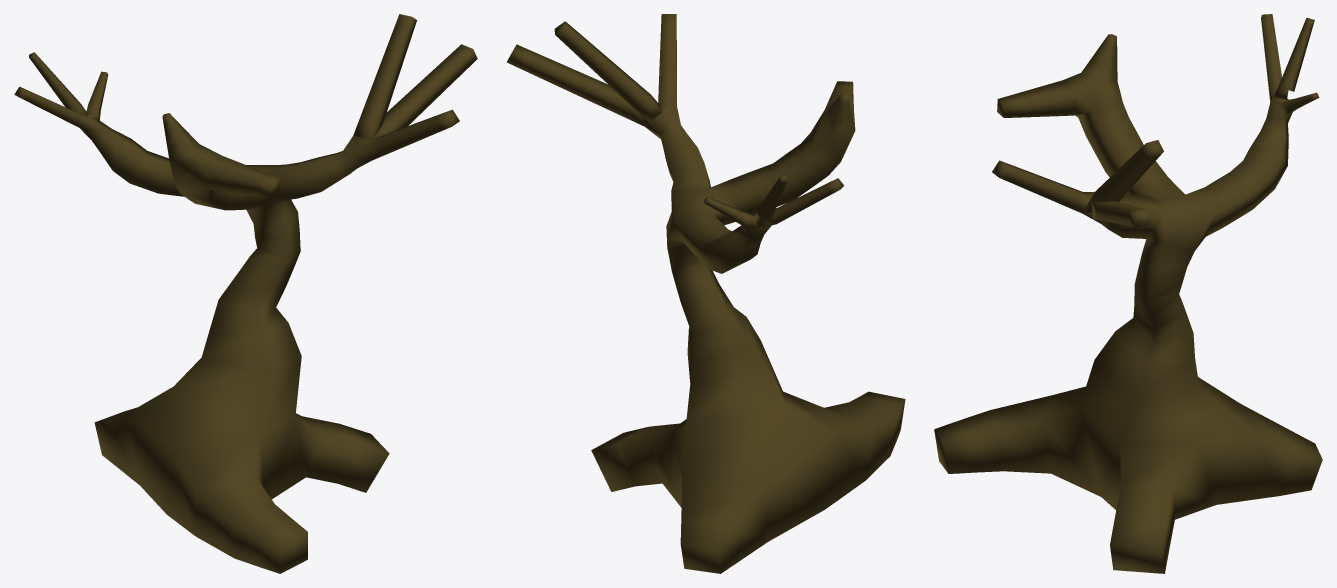
File: tree 3.fbx
3 renders of one model, left to right at view 1: azimuth 30°, elevation 25°; view 2: azimuth 150°, elevation 25°; view 3: azimuth 270°, elevation 25°, orthographic.
Parts seen in each view (by area): view 1: tree no leaves; view 2: tree no leaves; view 3: tree no leaves.
Part boxes in pixels (x1,y1,x2,y2): tree no leaves: (14,14,477,573); tree no leaves: (507,14,905,573); tree no leaves: (934,14,1322,573).
Size of the model in its own units: 6.65 by 7.21 by 5.54.
